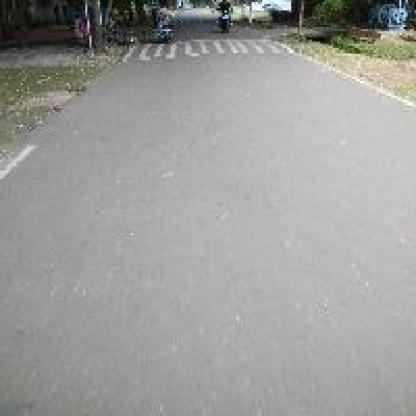Speed Bump: (118, 36, 283, 64)
